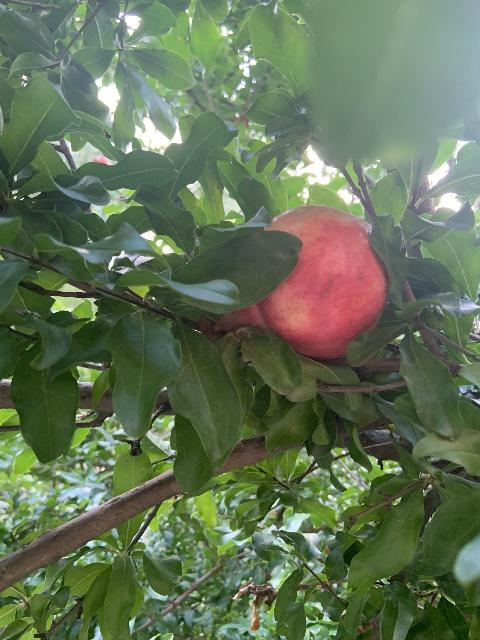ripe: (212, 205, 387, 360)
